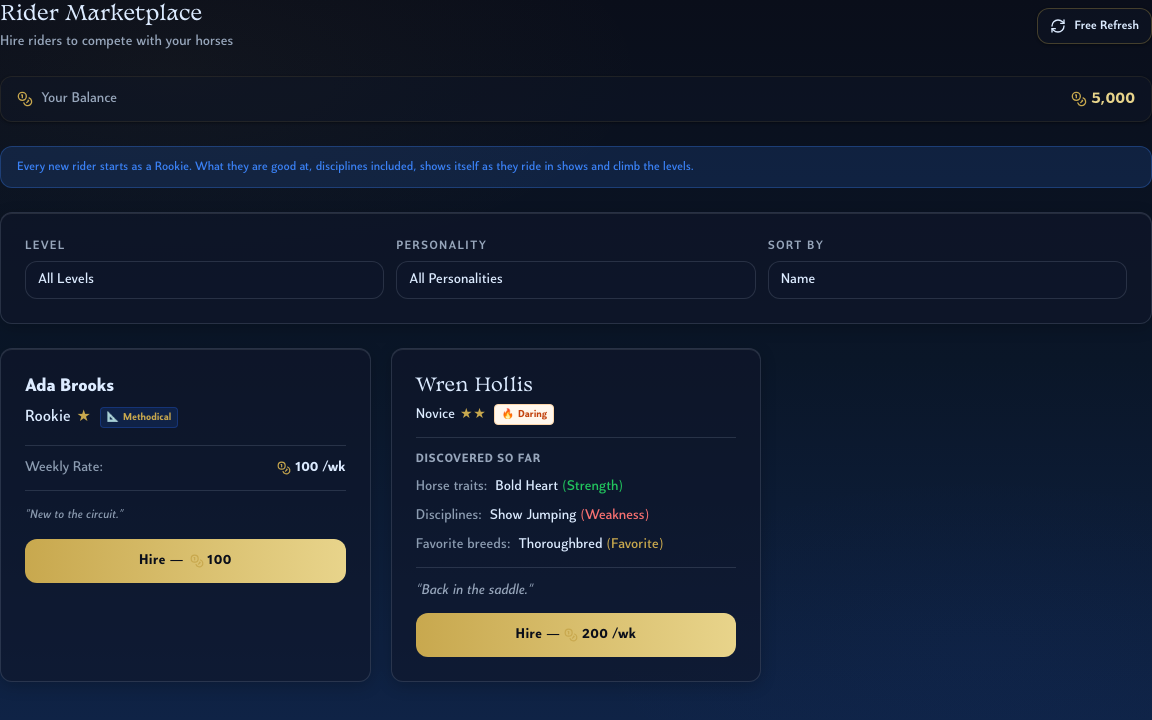
it: riders back for hire, in the rider hire list (Equoria-266h7, q284) › a coded short-balance refusal names the balance
Step 1. Click the button with test id "returning-rider-41-hire" → {"x": 576, "y": 635}, box [416,613,736,657]
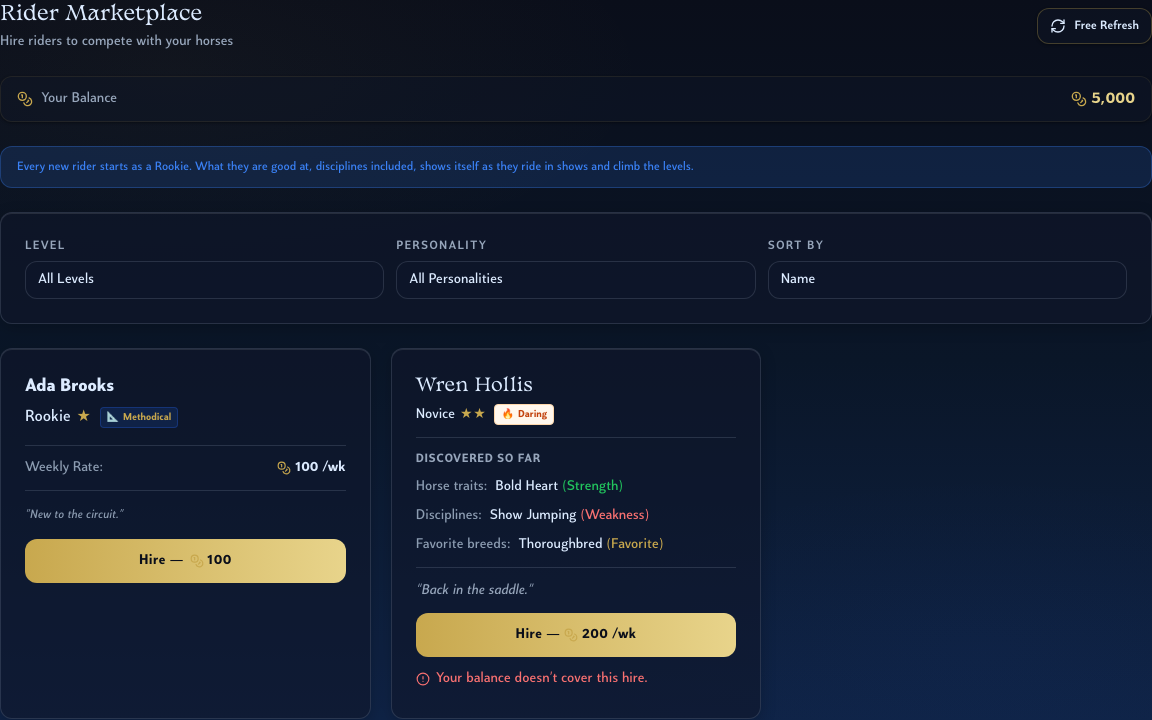
Result: the message reads "Your balance doesn't cover this hire." at [436,671,648,686]
